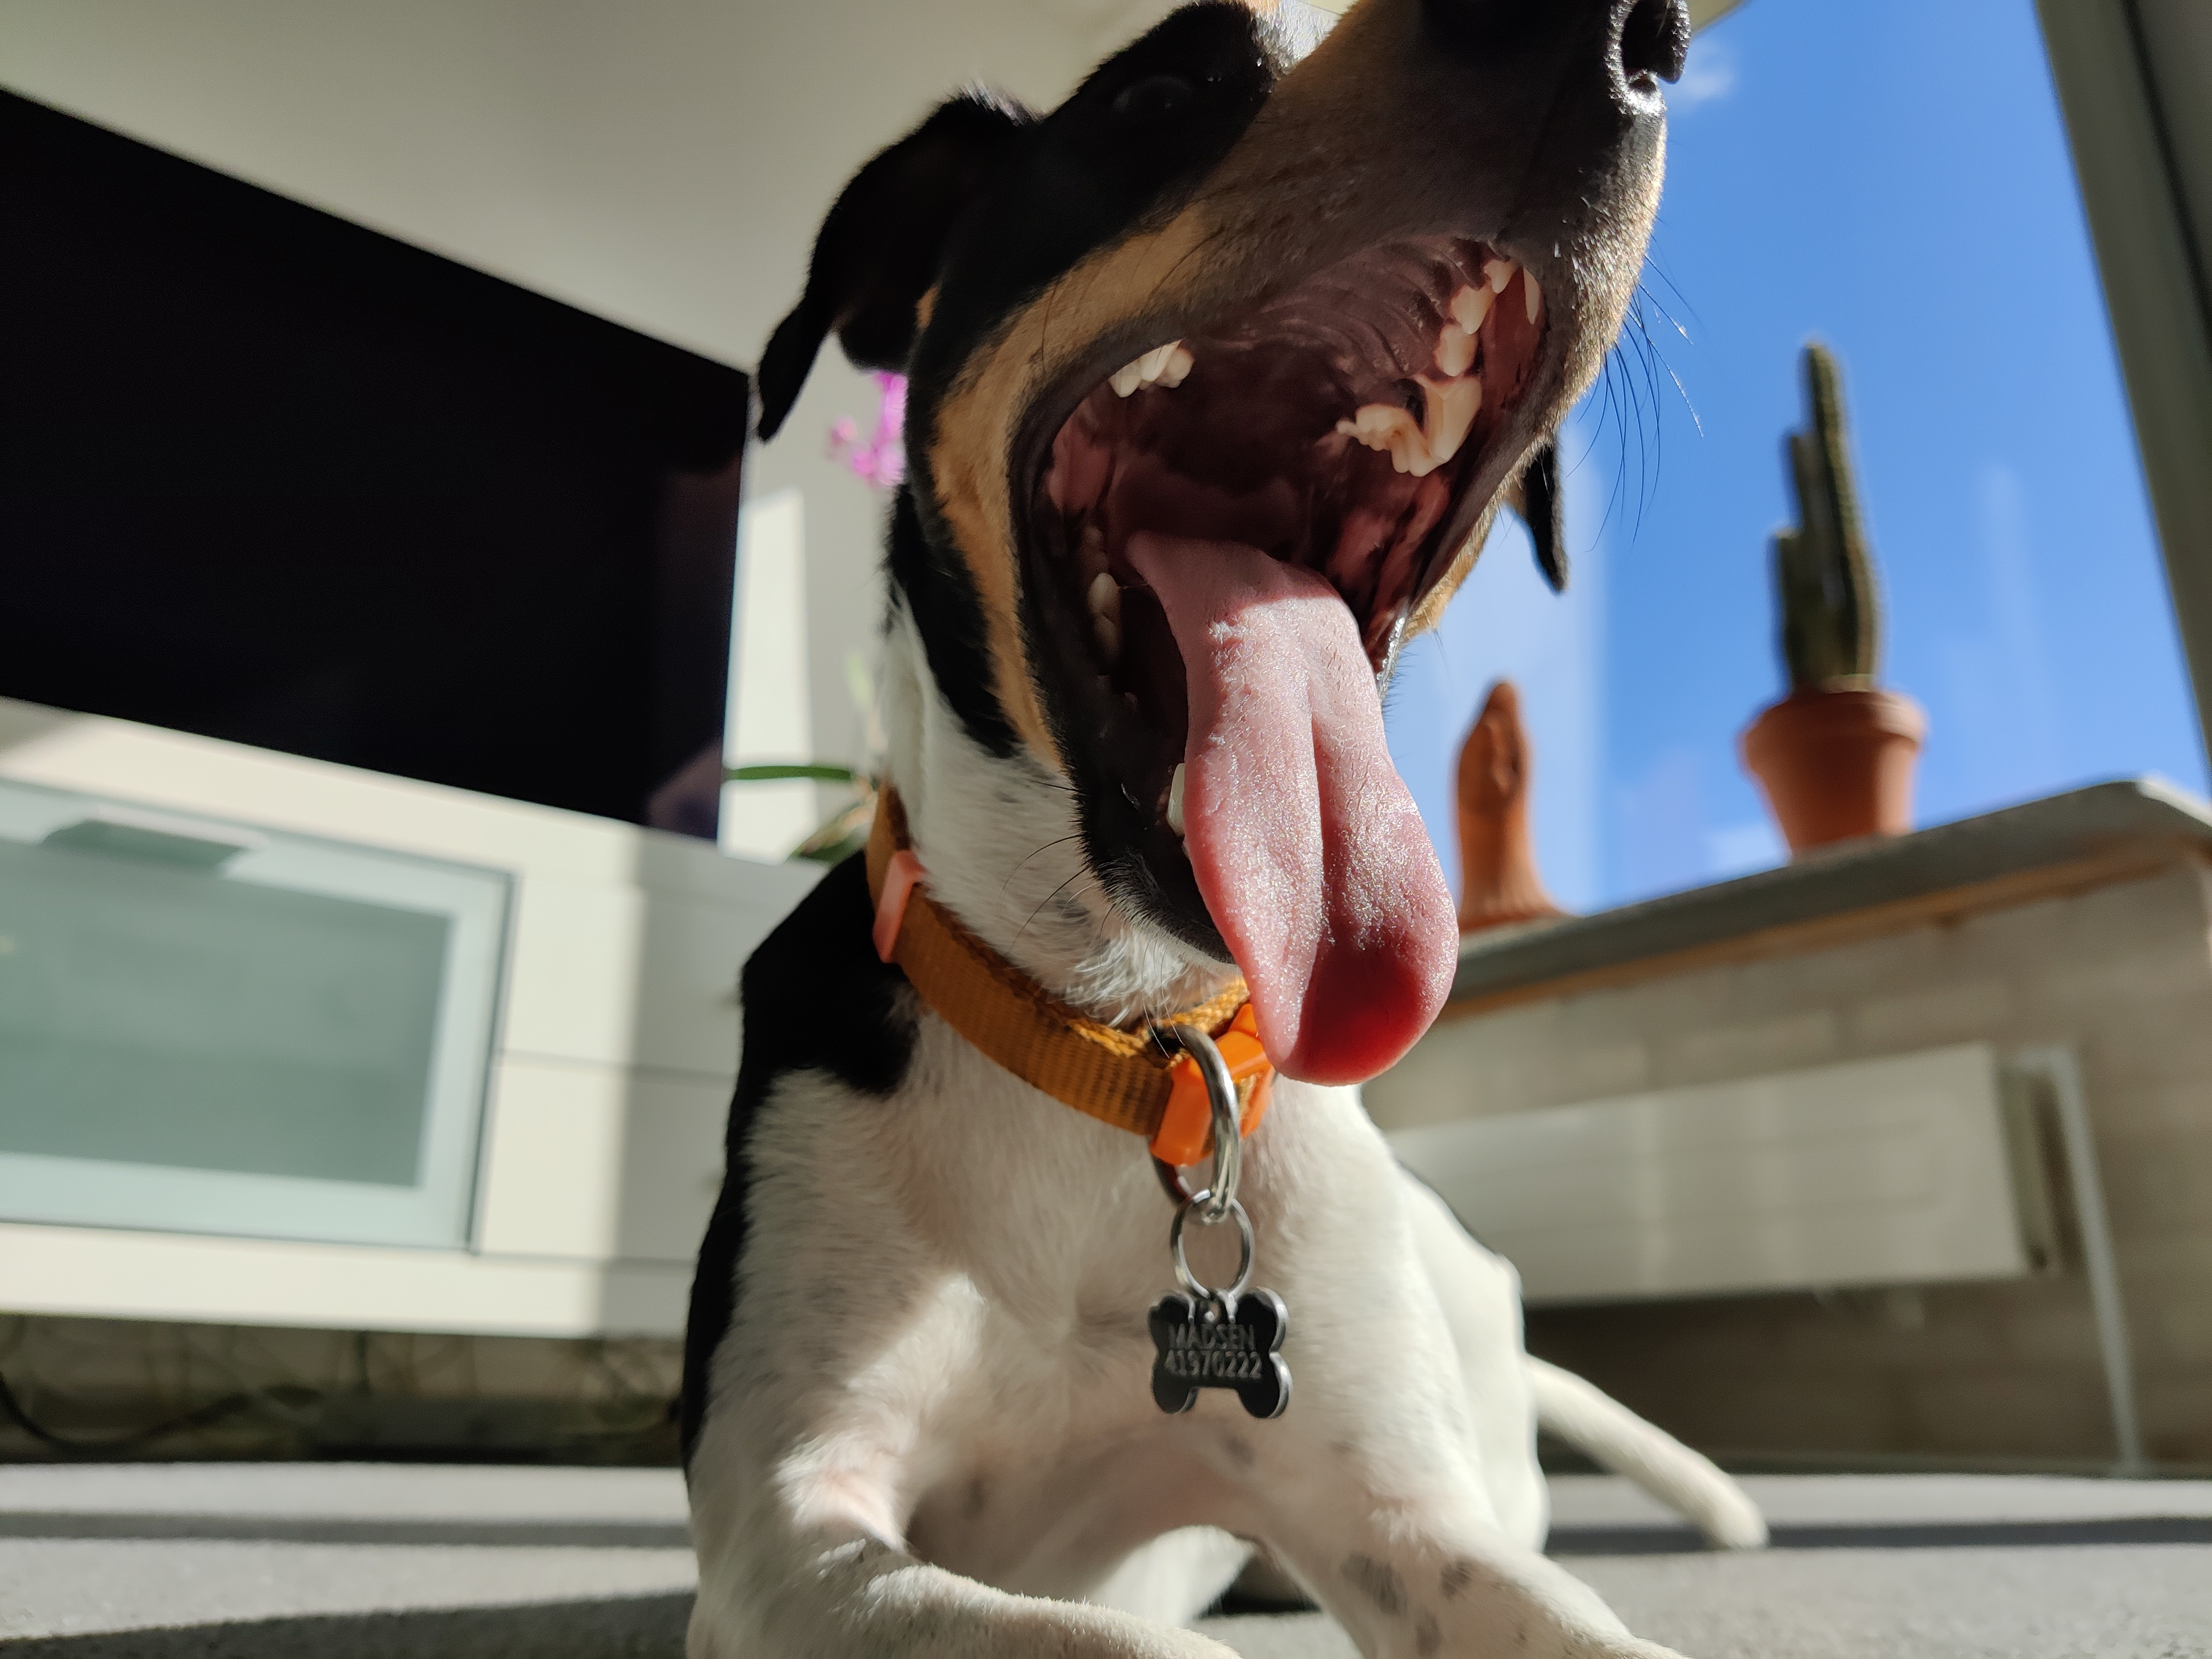Dog: (610, 0, 1780, 1659)
